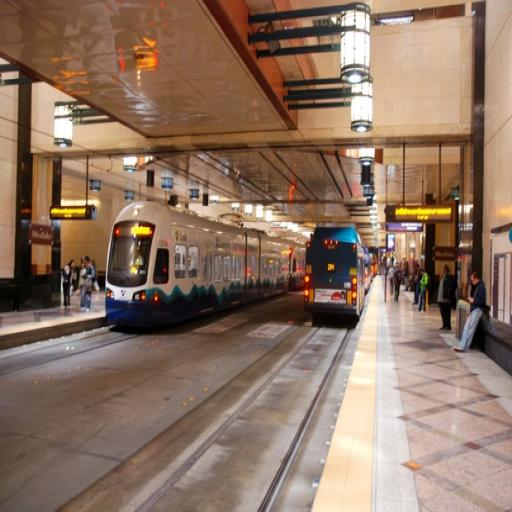platform_edge: (283, 288, 412, 512)
